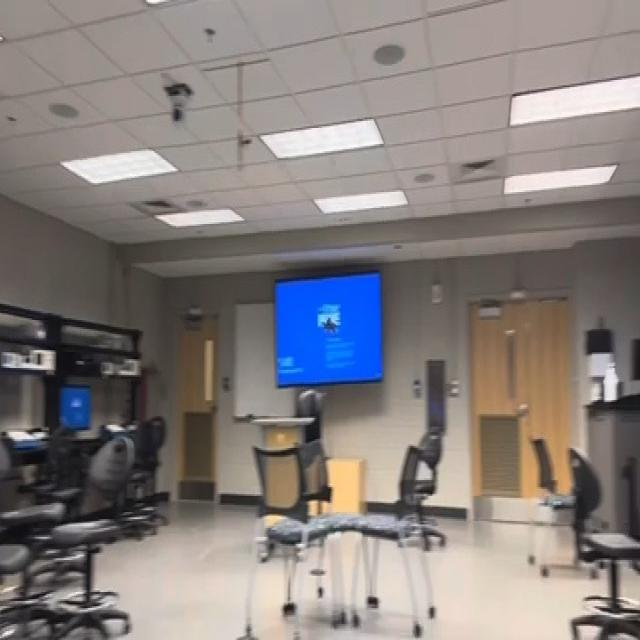drone: (314, 308, 346, 350)
